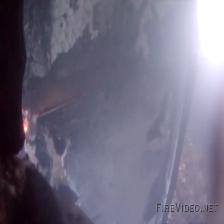fire: (20, 111, 34, 138)
